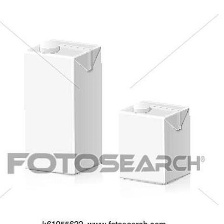carton: (19, 35, 105, 183), (114, 95, 197, 189)
